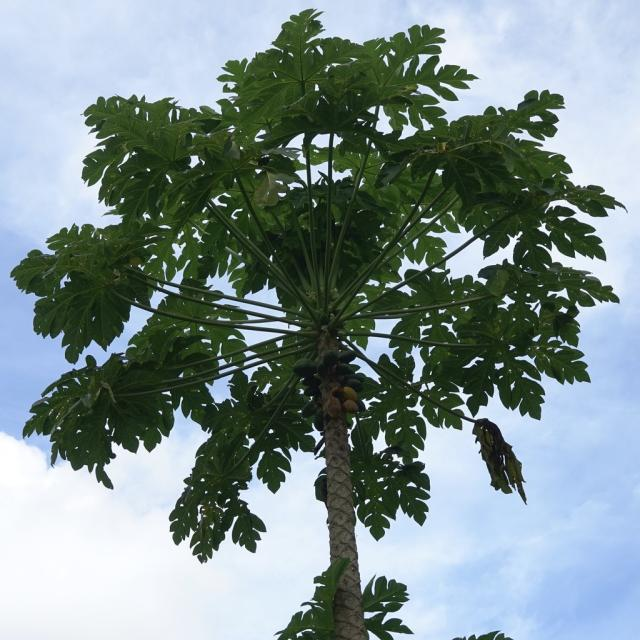Papaya-Tree: (8, 1, 620, 632)
